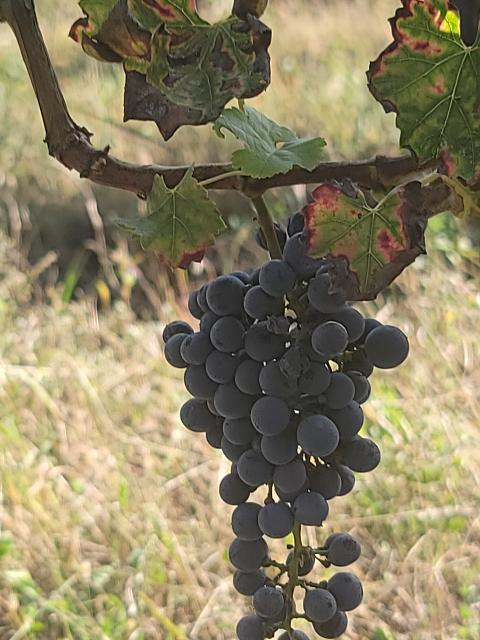grapes: (162, 212, 409, 640)
